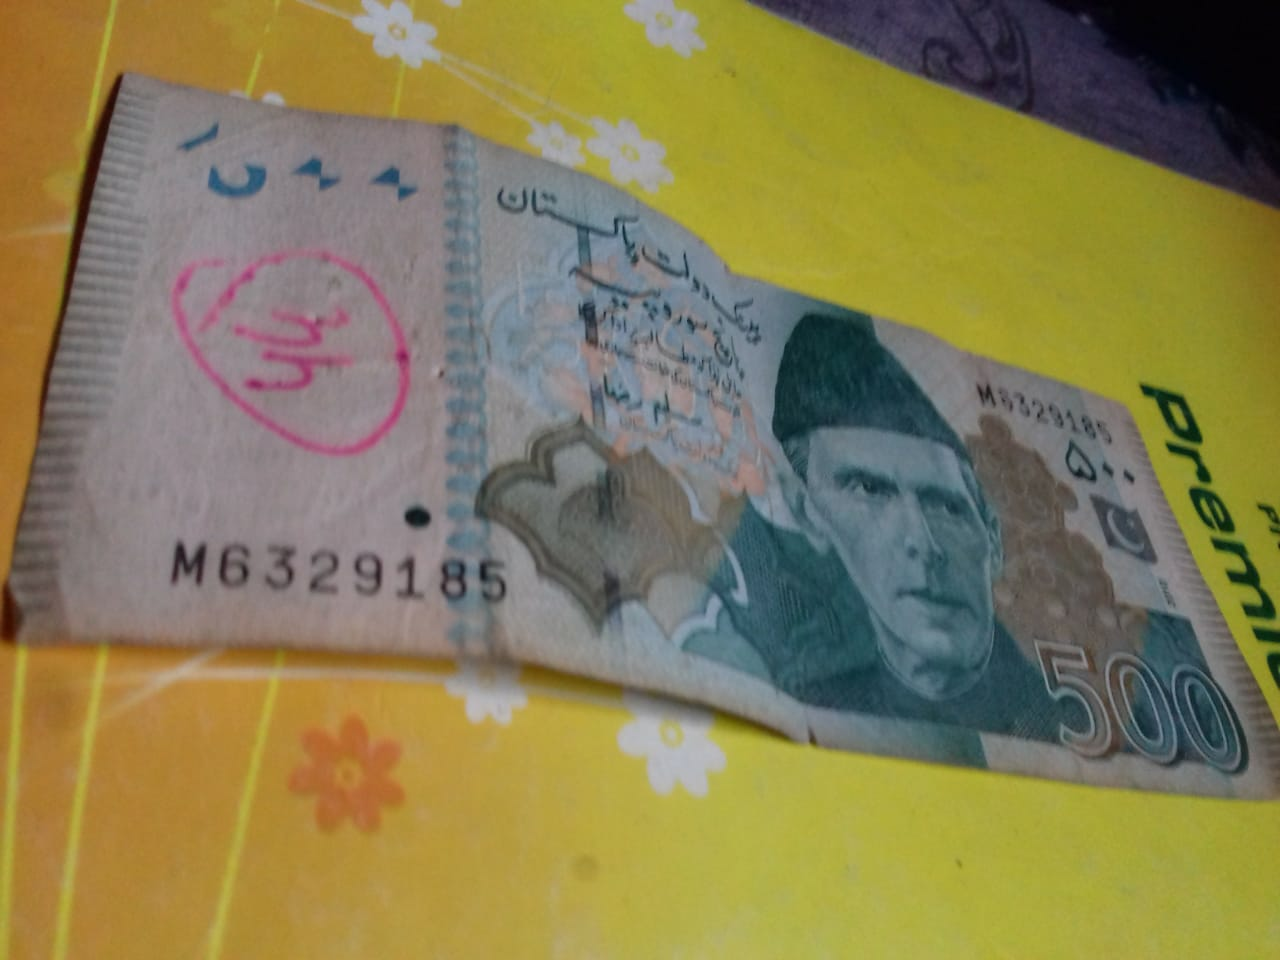500 rupee: (54, 49, 1259, 772)
